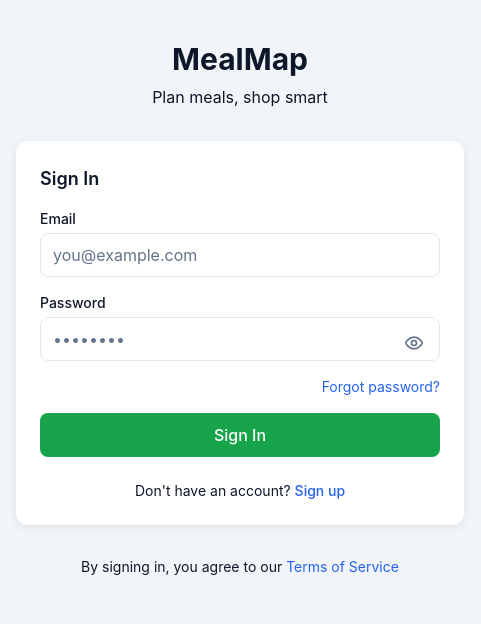
Test case: LoginPage › displays server error on login failure
Type "test@example.com" into the field labelled "Email" at (240, 255), box x1=40 y1=233 x2=440 y2=277
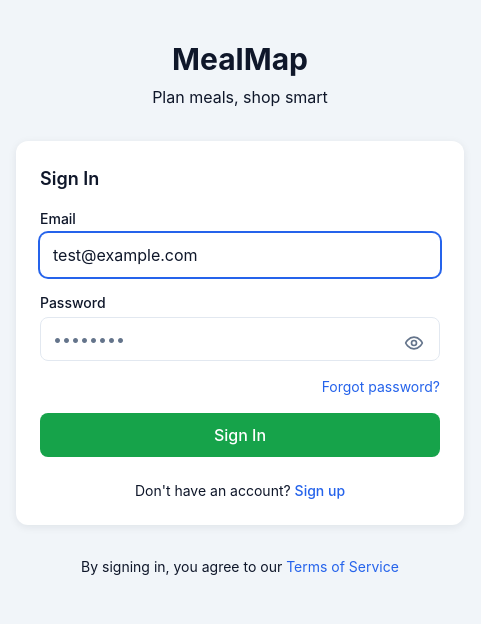
Type "wrongpassword" into the password field labelled "Password" at (240, 339), box x1=40 y1=317 x2=440 y2=361
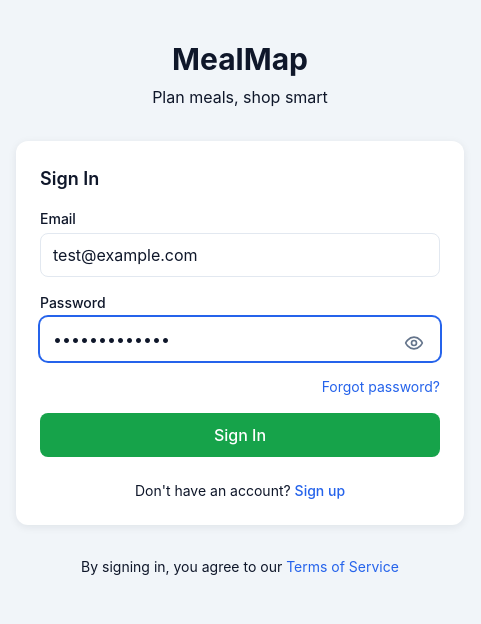
Click the button "Sign In" at (240, 435), box x1=40 y1=413 x2=440 y2=457
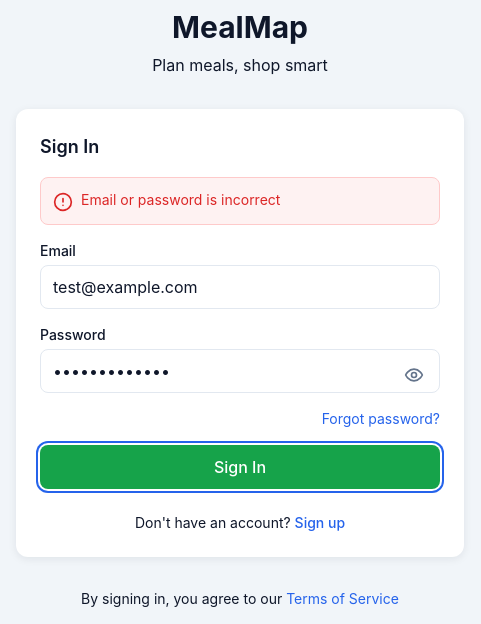
Expected: the message reads "Email or password is incorrect", x1=81 y1=191 x2=280 y2=208
